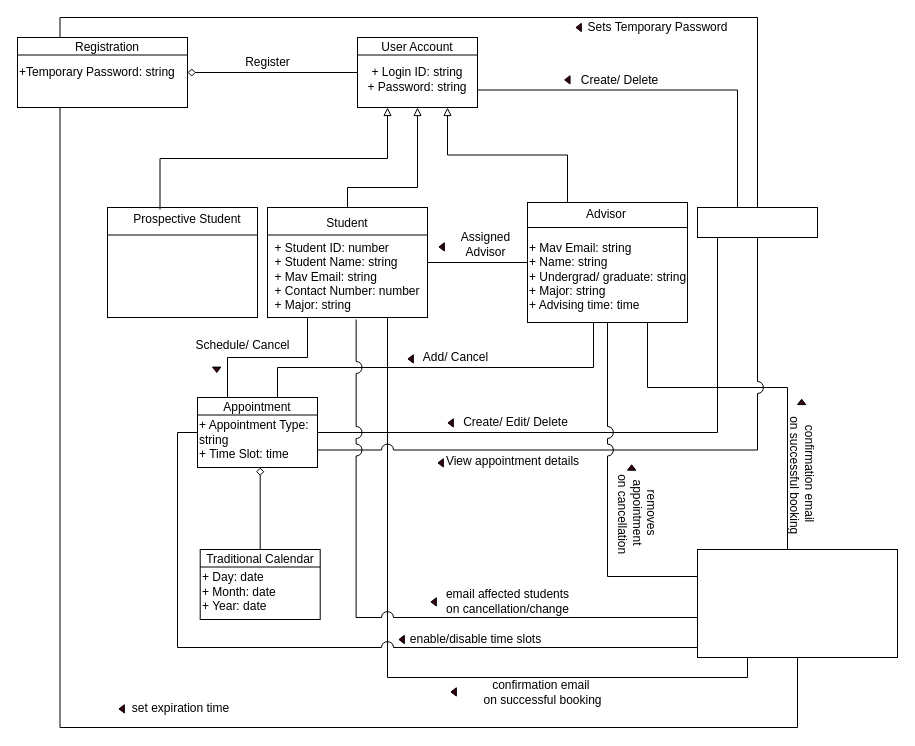
Some shapes in this 915 by 746 pixel diagram are drawn without their labels. Each missing label, with the box of its shape:
+ Student ID: number + Student Name: string + Contact Number: number: (106, 206, 258, 318)
Admin: (696, 206, 818, 238)
MavAppoint: (696, 548, 898, 658)
